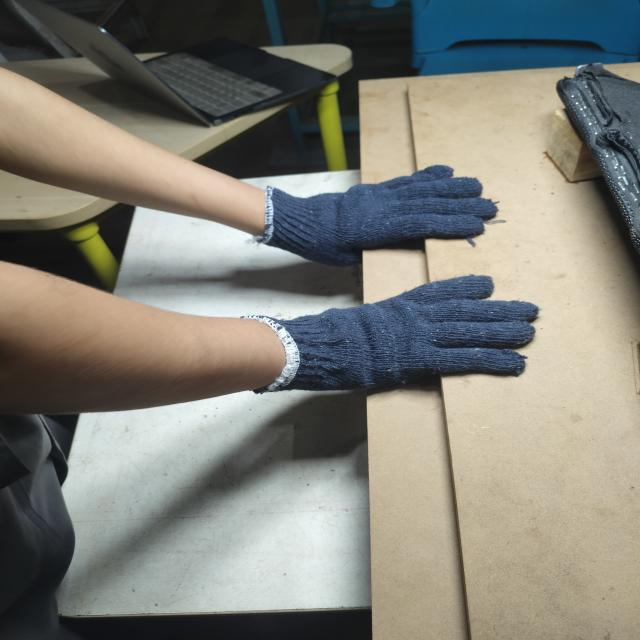Gloves-Detection: (259, 274, 546, 392), (254, 178, 486, 260)
